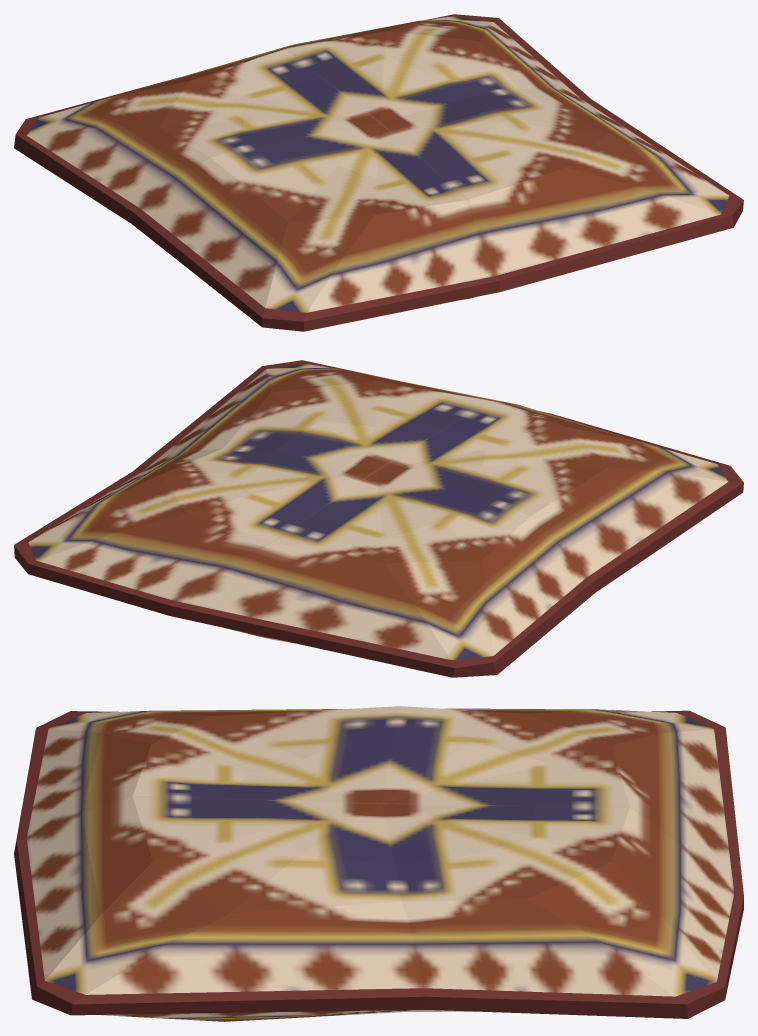
The model's file is SM_Prop_Pillow_02.glb.
3 renders of one model, top to bottom at view 1: azimuth 30°, elevation 25°; view 2: azimuth 150°, elevation 25°; view 3: azimuth 270°, elevation 25°, orthographic. The views are drawn at different scales.
Parts seen in each view (by area): view 1: SM_Prop_Pillow_02; view 2: SM_Prop_Pillow_02; view 3: SM_Prop_Pillow_02.
Boxes of the visible parts, left/top/right/bottom form: SM_Prop_Pillow_02: left=14, top=14, right=743, bottom=331; SM_Prop_Pillow_02: left=14, top=360, right=743, bottom=677; SM_Prop_Pillow_02: left=14, top=706, right=743, bottom=1021.
Bounding box in the file's own units: 0.8093 × 0.1734 × 0.8482.
1 material, 1 textured.
